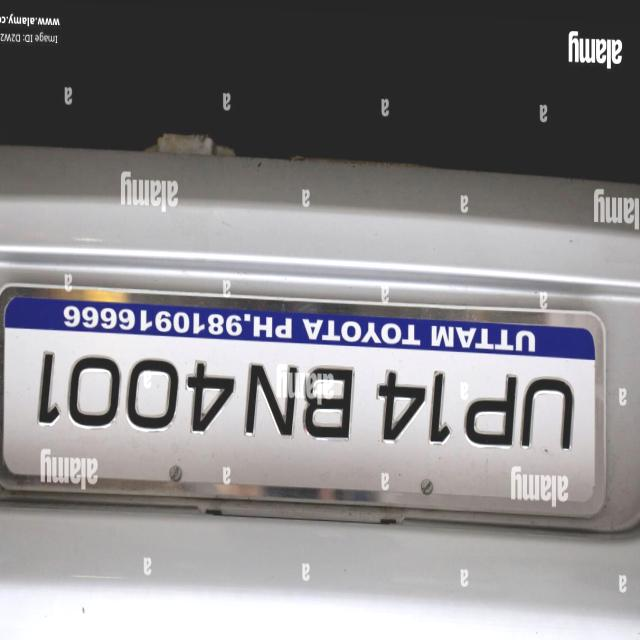0: (125, 352, 178, 436), (65, 352, 119, 430)
1: (38, 344, 60, 429), (431, 364, 452, 444)
4: (375, 362, 425, 447), (183, 358, 235, 434)
b: (304, 356, 354, 440)
n: (243, 356, 296, 441)
p: (460, 369, 518, 446)
u: (519, 369, 577, 457)
